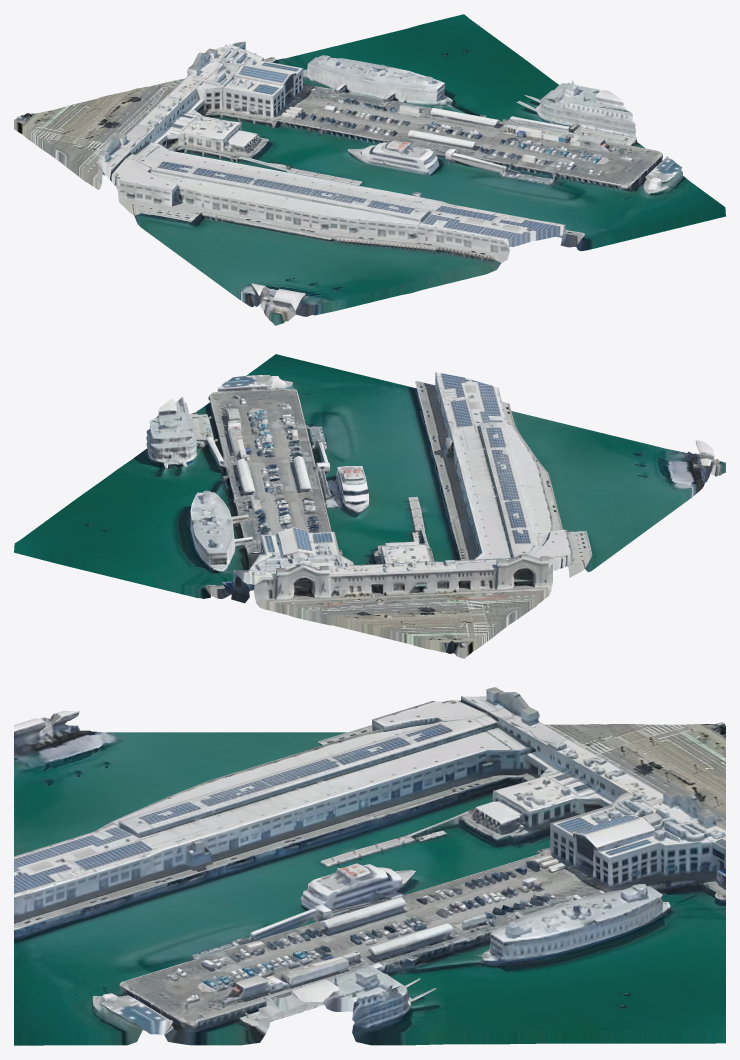
The model's file is z17-20973-50651-h0-yup-uvflip-v3-world.glb.
3 views of the same model, one above another, from view 1: azimuth 30°, elevation 25°; view 2: azimuth 150°, elevation 25°; view 3: azimuth 270°, elevation 25° (orthographic). The views are drawn at different scales.
Bounding box in the file's own units: 242 × 24.96 × 243.
Materials: 1 (1 with a texture image).
